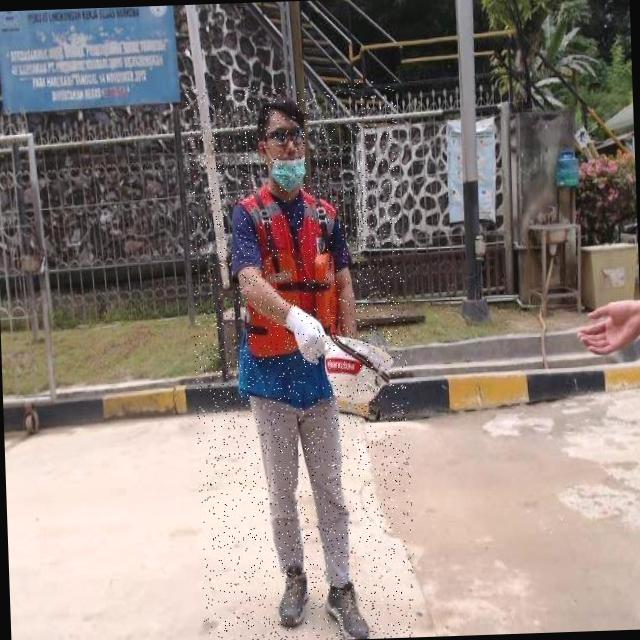boots: (321, 578, 373, 640), (268, 564, 312, 628)
gloves: (284, 305, 330, 363)
no-gloves: (578, 301, 640, 357)
no-helmet: (250, 96, 312, 192)
vest: (229, 184, 348, 413)
